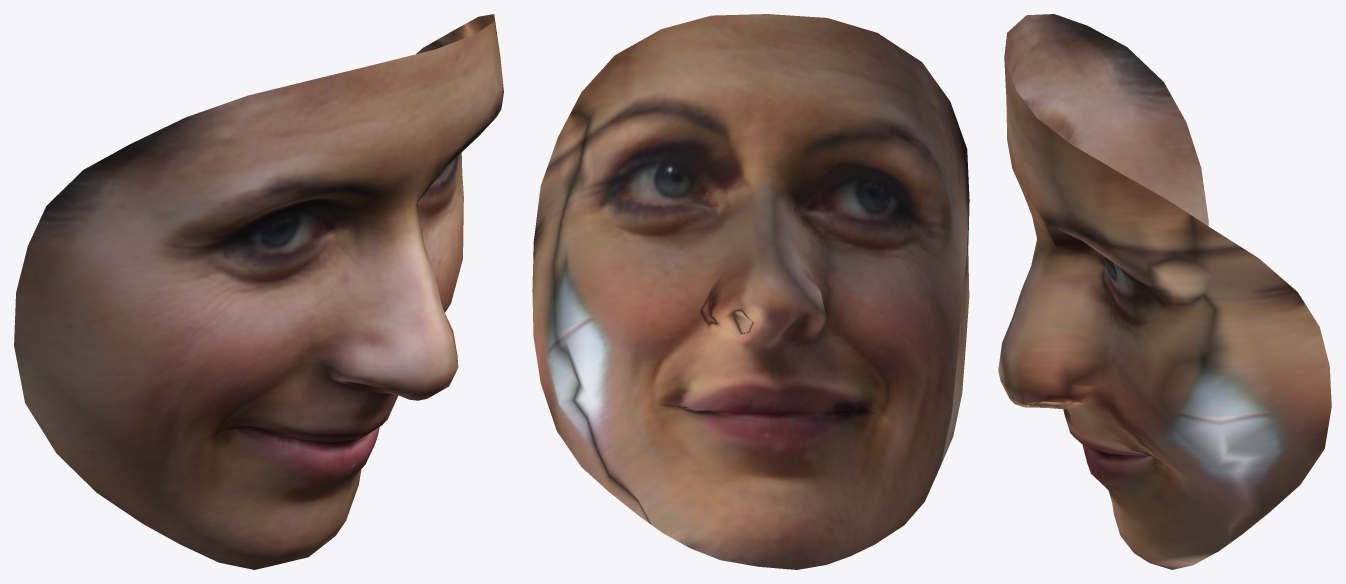
Rendered from lisa_edelstein_face.glb.
3 views of the same model, side by side, from view 1: azimuth 30°, elevation 25°; view 2: azimuth 150°, elevation 25°; view 3: azimuth 270°, elevation 25° (orthographic). The views are drawn at different scales.
Parts seen in each view (by area): view 1: geometry_0; view 2: geometry_0; view 3: geometry_0.
Boxes of the visible parts, x1,y1,x2,y2 form: geometry_0: [14, 14, 503, 569]; geometry_0: [532, 14, 969, 569]; geometry_0: [998, 14, 1331, 569].
Size of the model in its own units: 0.4624 by 0.5535 by 0.331.
1 material, 1 textured.
